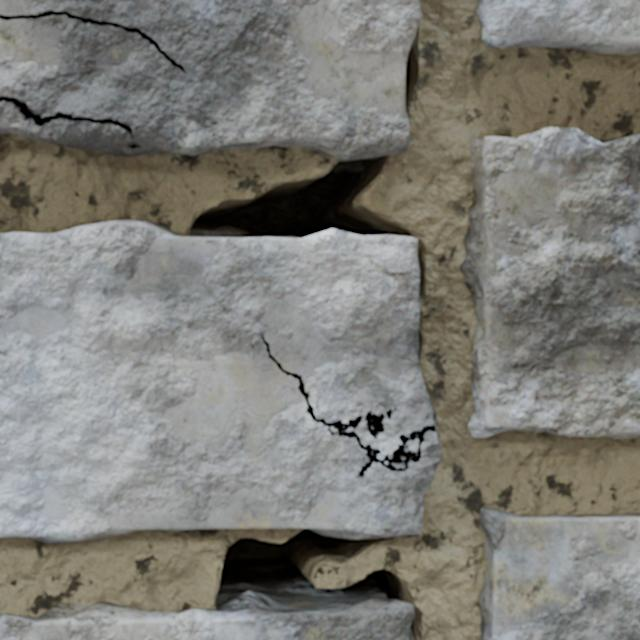crack: (0, 0, 442, 639), (460, 127, 639, 439), (479, 508, 639, 639), (477, 0, 639, 54)
